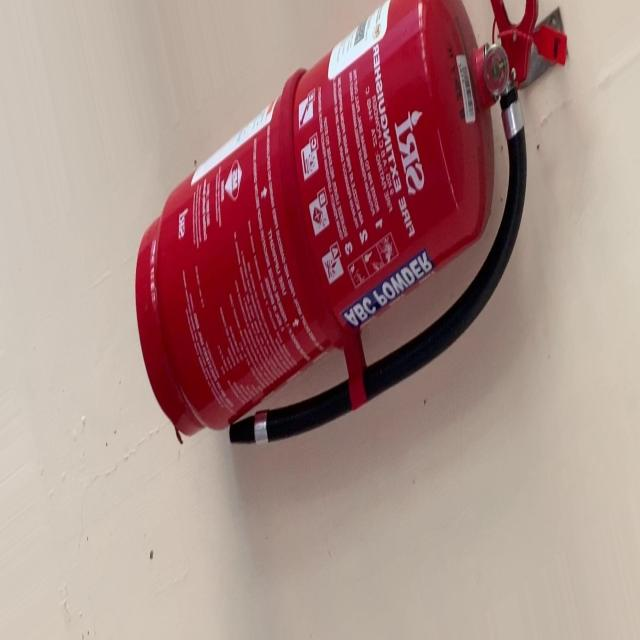fire_extinguisher: (131, 0, 571, 453)
